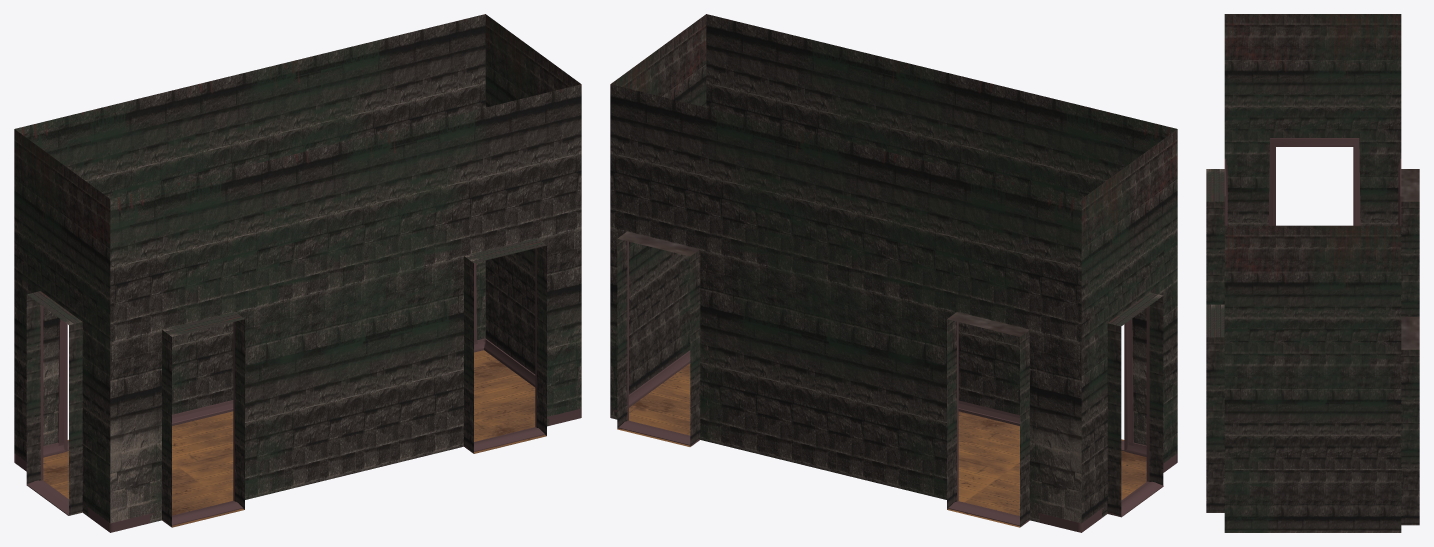
Rendered from Hallway_Lars.fbx.
3 views of the same model, side by side, from view 1: azimuth 30°, elevation 25°; view 2: azimuth 150°, elevation 25°; view 3: azimuth 270°, elevation 25° (orthographic). The views are drawn at different scales.
Parts seen in each view (by area): view 1: pCube124; view 2: pCube124; view 3: pCube124.
Boxes of the visible parts, x1,y1,x2,y2 form: pCube124: (14,14,581,532); pCube124: (610,14,1177,532); pCube124: (1206,14,1419,532).
Bounding box in the file's own units: 532 × 350 × 221.
3 materials, 2 textured.
